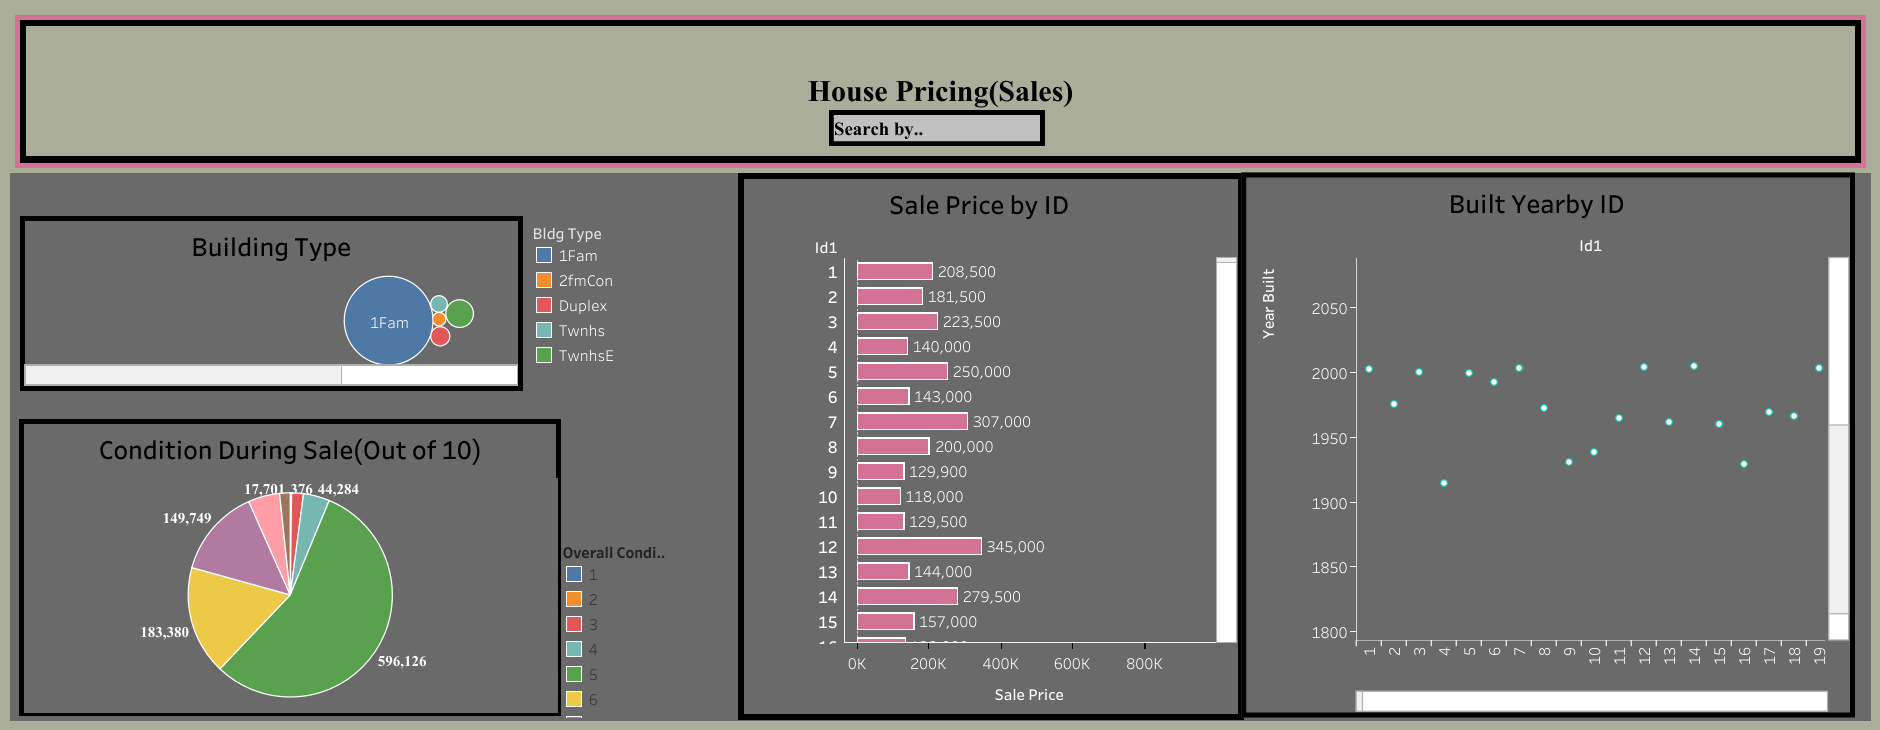

The dashboard page shown, as its layout file describes it:
{"tool":"tableau","page":{"name":"Dashboard 1","canvas":[1000,1000],"units":"permille","ordinal":0},"visuals":[{"type":"title","box":[4.9,10.1,990.1,164.3]},{"type":"filter","title":"Sheet 2","param":"[federated.1bhs0tb0abxnnc1a2abvj1ptsccd].[none:Id:ok]","box":[440.8,150.4,114.7,49.3]},{"type":"worksheet","title":"Sheet 2","mark":"Automatic","rows":["Id"],"cols":["SalePrice"],"box":[392.1,235.2,268.8,749.7]},{"type":"worksheet","title":"Sheet 1","mark":"Circle","rows":["YearBuilt"],"cols":["Id"],"box":[659.7,235.2,326.1,745.9]},{"type":"worksheet","title":"Sheet 4","mark":"Circle","box":[10.5,296,266.9,238.3]},{"type":"legend","title":"Sheet 4","param":"[federated.1bhs0tb0abxnnc1a2abvj1ptsccd].[none:BldgType:nk]","box":[282.4,299.6,59.2,236.4]},{"type":"worksheet","title":"Sheet 3","mark":"Pie","box":[9.8,572.8,288.3,406.7]},{"type":"legend","title":"Sheet 3","param":"[federated.1bhs0tb0abxnnc1a2abvj1ptsccd].[none:OverallCond:ok]","box":[298.4,734.5,56.1,246.5]}]}

Visuals, with their boxes on the dashboard's canvas, which has no fixed pixel size, in thousandths of its width and height (x1, y1, x2, y2). These are canvas units, not pixel positions in the 1880x730 screenshot, which may show the page scaled, cropped or inside an application window:
title: Rect(5, 10, 995, 174)
"Sheet 2" filter: Rect(441, 150, 556, 200)
"Sheet 2" worksheet: Rect(392, 235, 661, 985)
"Sheet 1" worksheet (Circle marks): Rect(660, 235, 986, 981)
"Sheet 4" worksheet (Circle marks): Rect(10, 296, 277, 534)
"Sheet 4" legend: Rect(282, 300, 342, 536)
"Sheet 3" worksheet (Pie marks): Rect(10, 573, 298, 980)
"Sheet 3" legend: Rect(298, 734, 354, 981)
